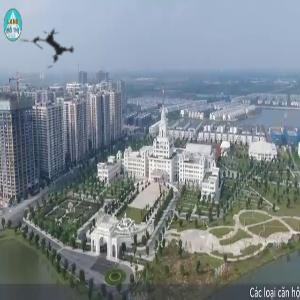drone: (6, 1, 99, 94)
